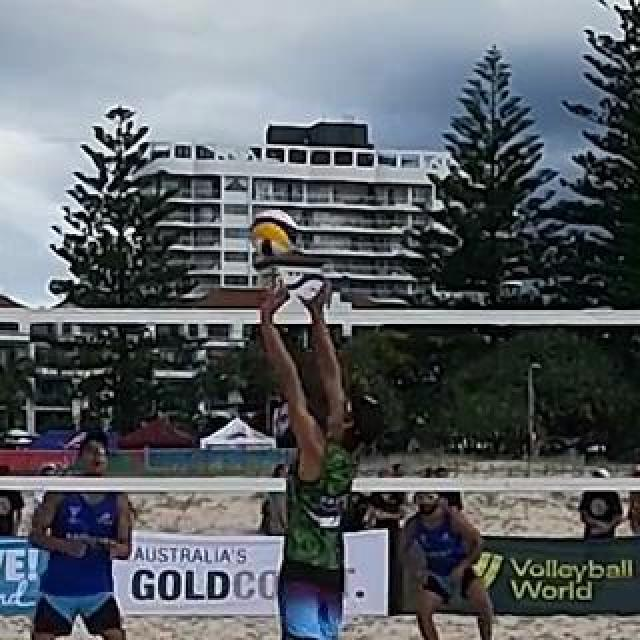volleyball: (251, 215, 295, 257)
